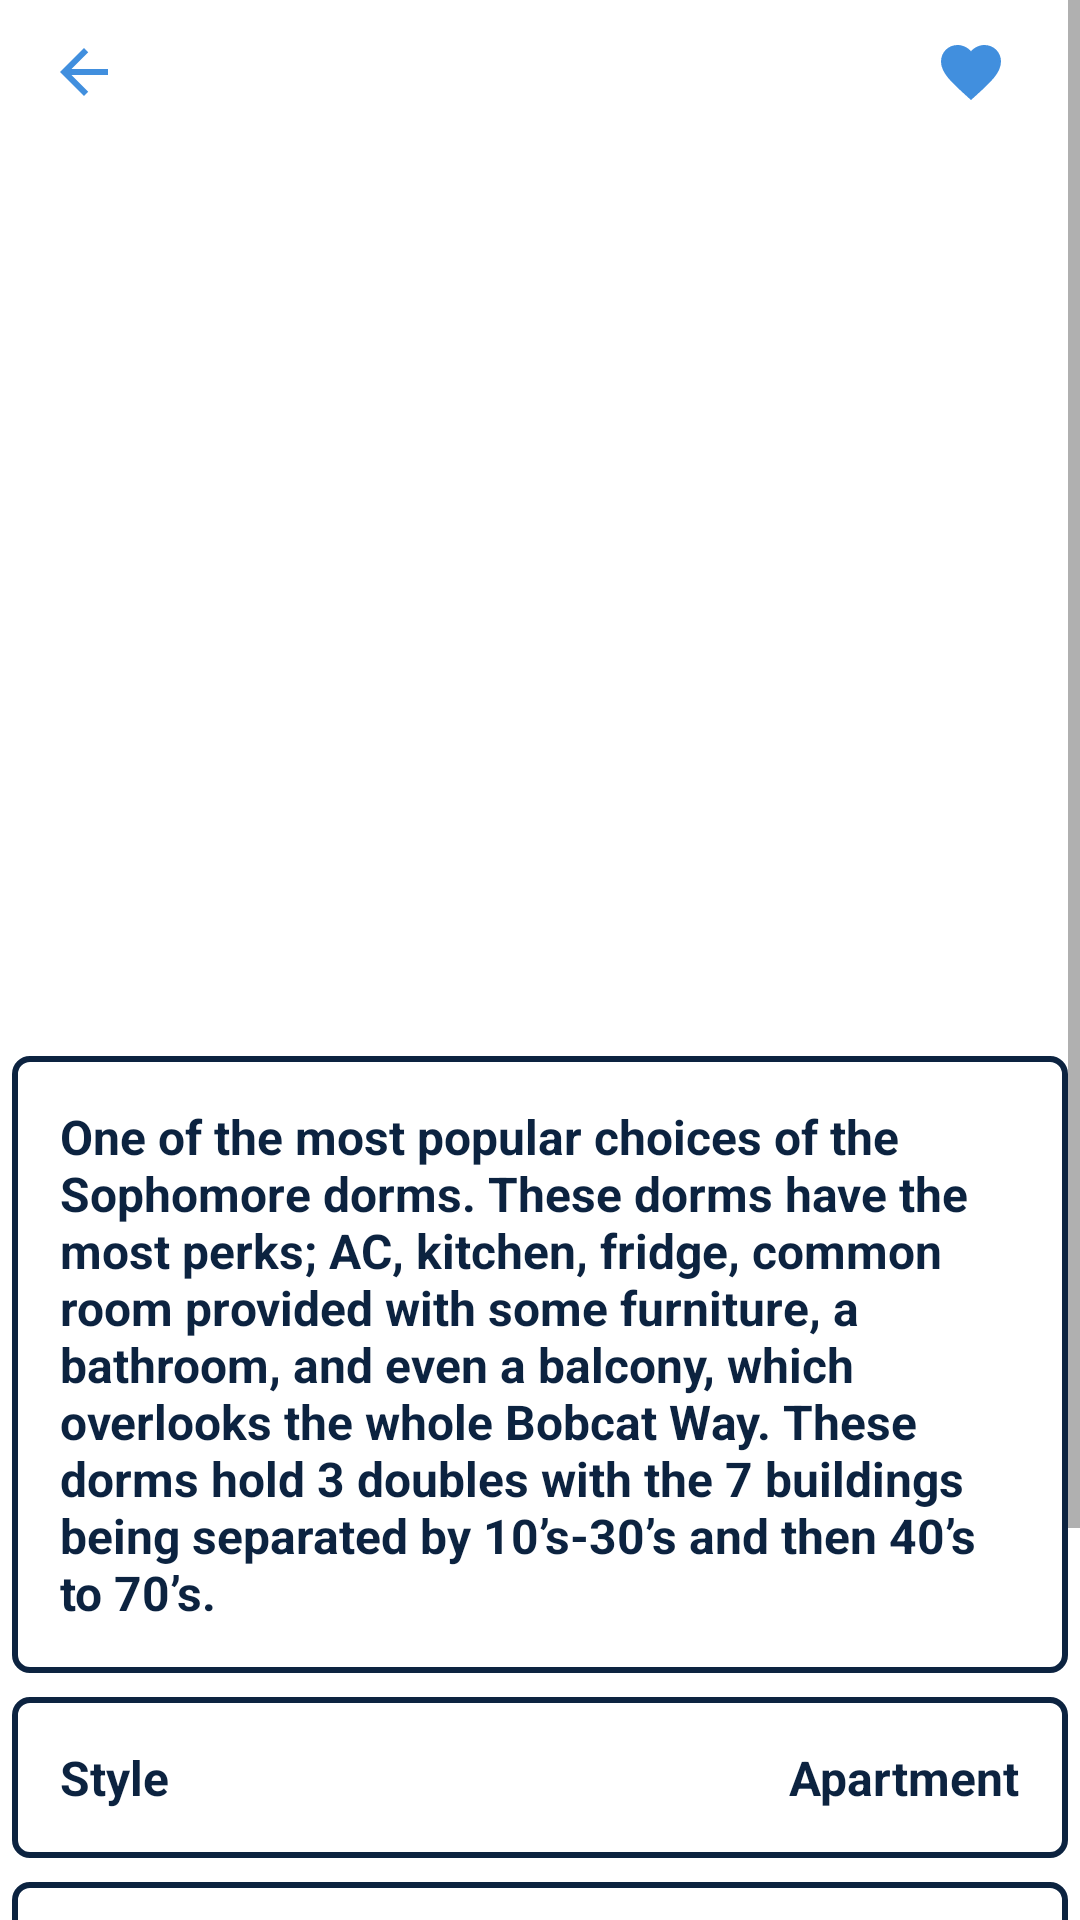

Icon bounding boxes for this 1080 × 1920 phone screenshot, format (x1, y1, x2, y2):
Back: (60, 48, 108, 96)
favorite: (941, 45, 1001, 100)
